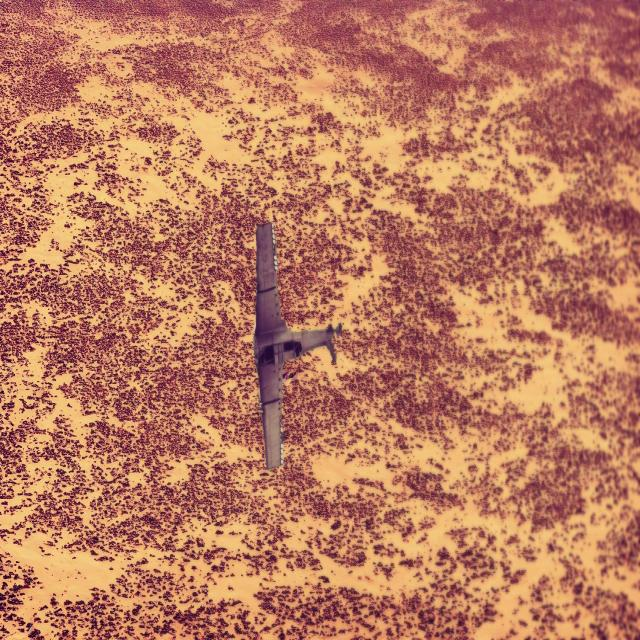airplane: (252, 220, 342, 470)
